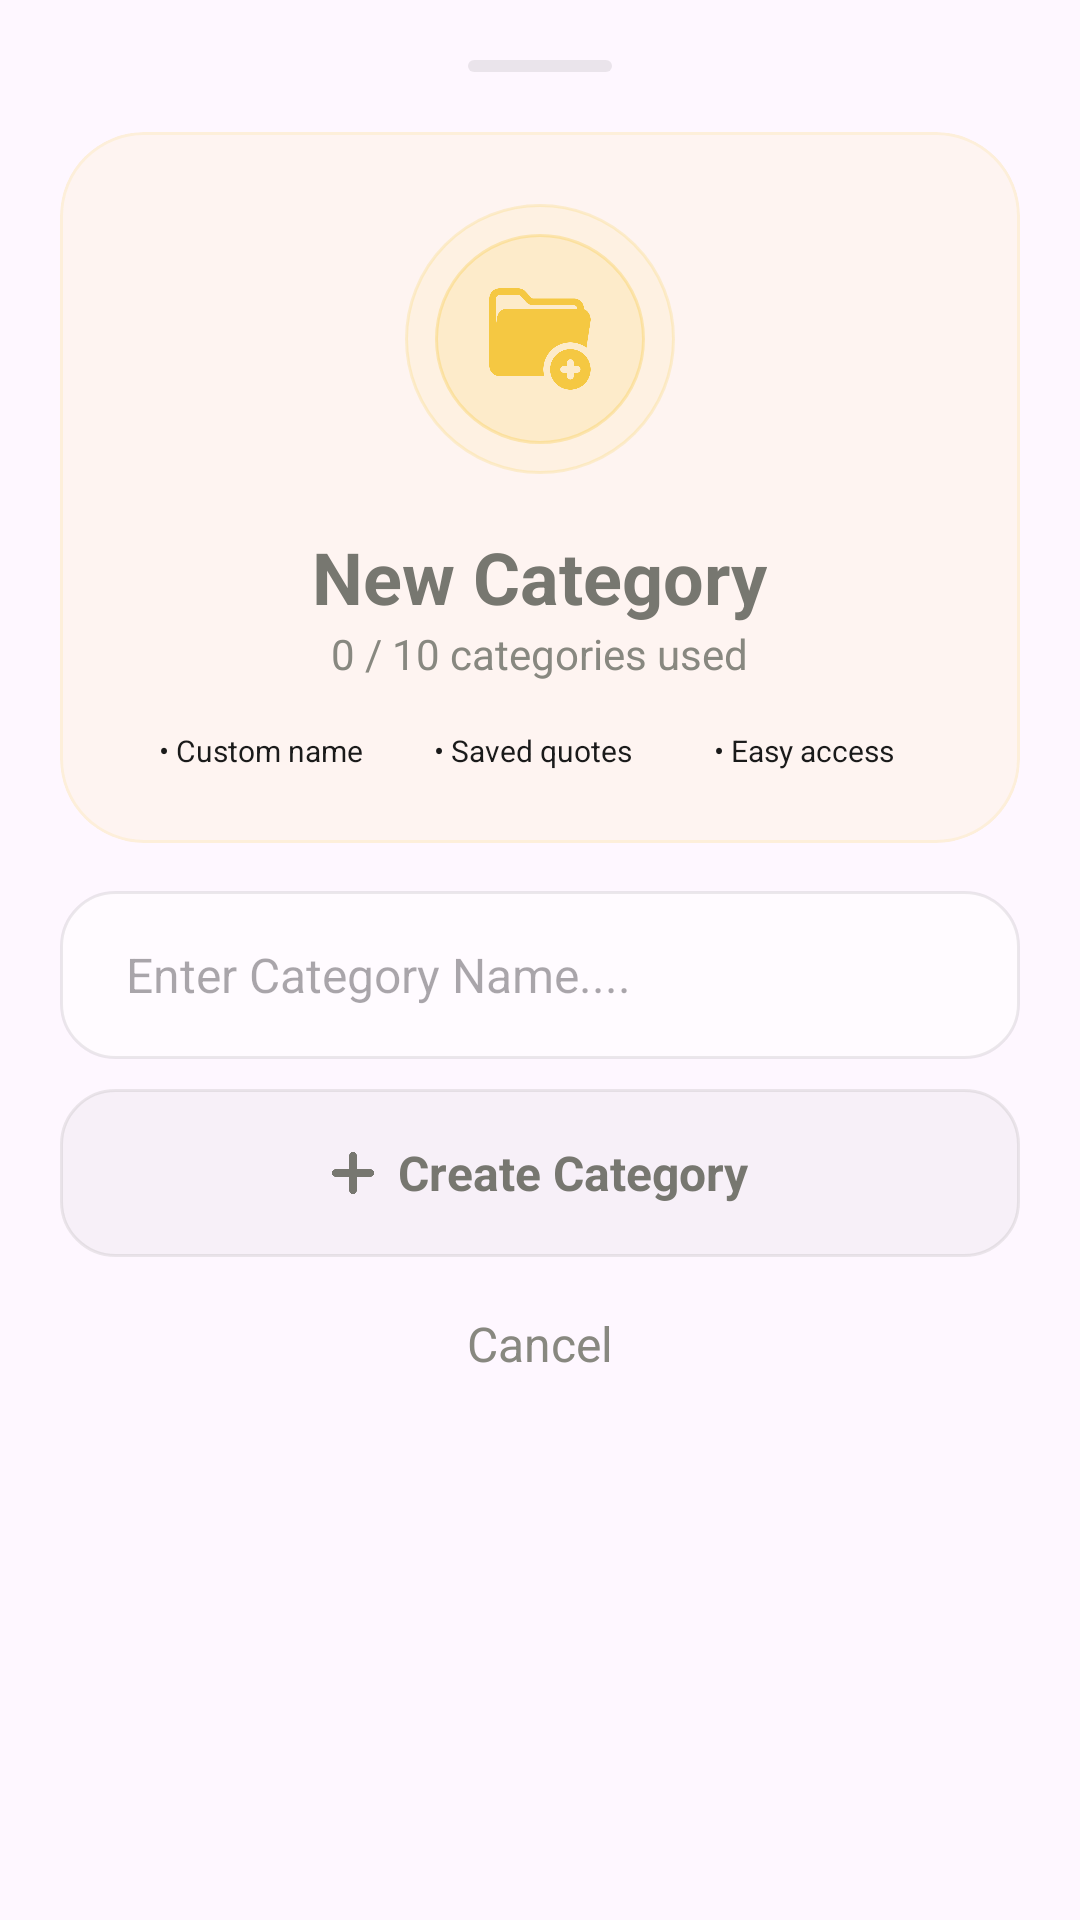

Icon click points for this 1080×1920 phone screenshot, format (x=x, y=y):
add: (x=353, y=1173)
add folder: (x=540, y=339)
